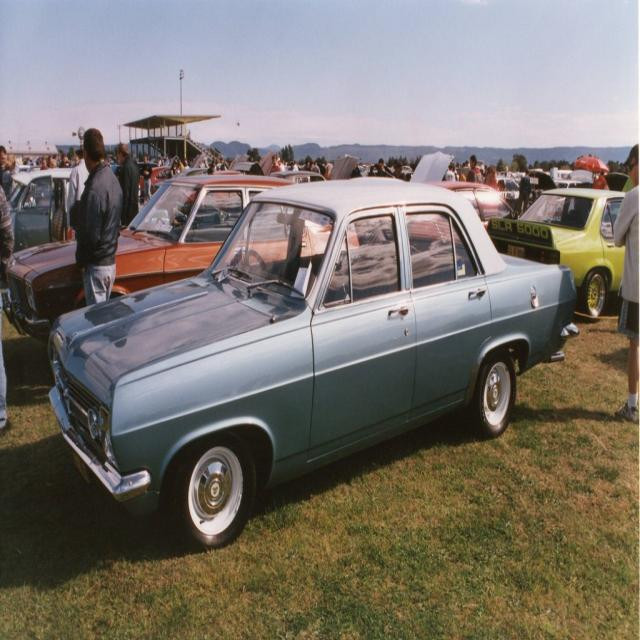car: (4, 150, 627, 546)
